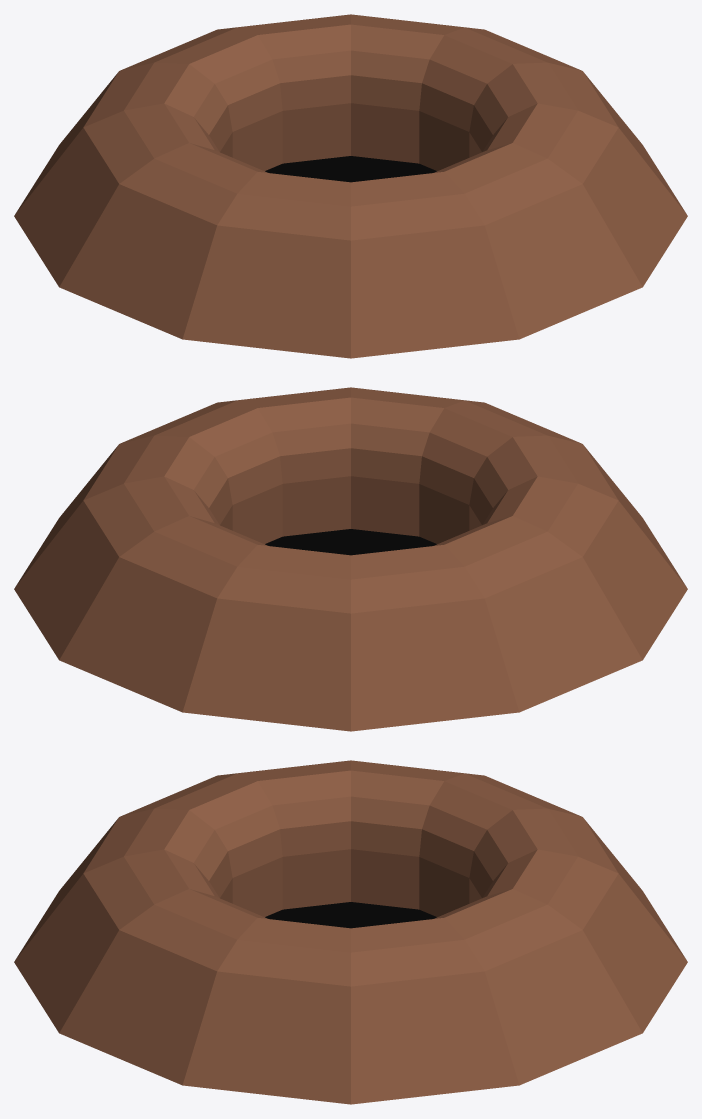
Rendered from mole hole.fbx.
3 views of the same model, one above another, from view 1: azimuth 30°, elevation 25°; view 2: azimuth 150°, elevation 25°; view 3: azimuth 270°, elevation 25° (orthographic).
Visible parts, largest first — view 1: Cylinder; view 2: Cylinder; view 3: Cylinder.
Boxes of the visible parts, x1=… form: Cylinder: x1=14, y1=14, x2=687, y2=358; Cylinder: x1=14, y1=387, x2=687, y2=731; Cylinder: x1=14, y1=760, x2=687, y2=1104.
Size of the model in its own units: 361 by 66.61 by 361.
